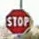stop: (5, 8, 30, 33)
